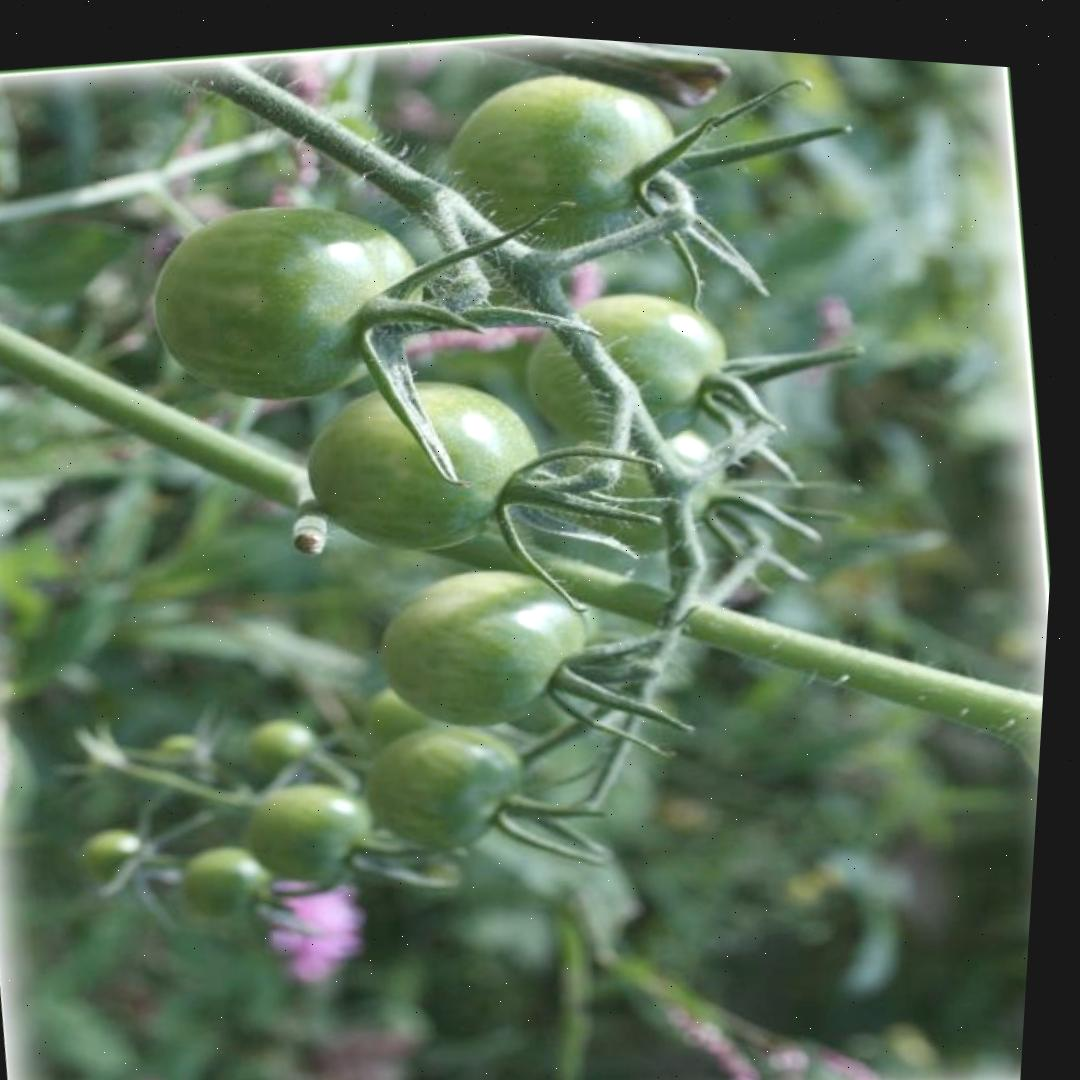mentah: (132, 175, 443, 430), (422, 48, 699, 286), (288, 355, 557, 575), (360, 546, 605, 747), (512, 269, 745, 467), (349, 708, 537, 866)
